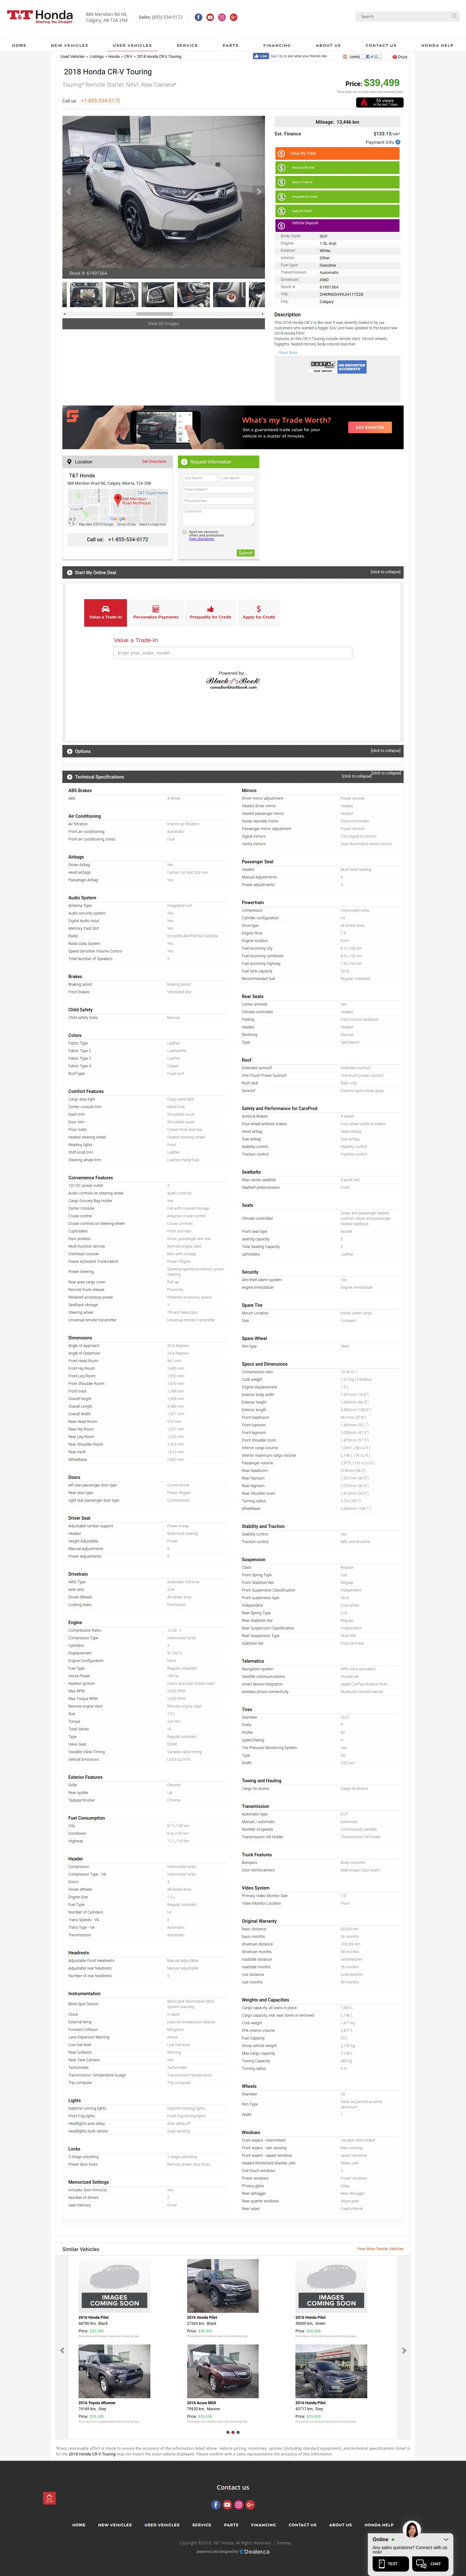car: (257, 187, 263, 197)
